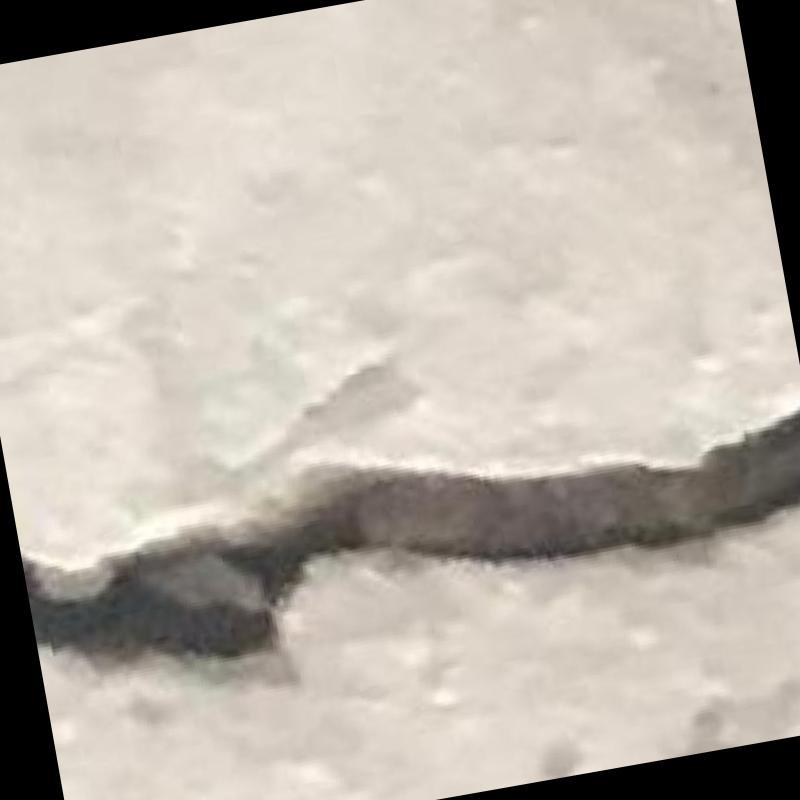pothole: (22, 408, 800, 658)
